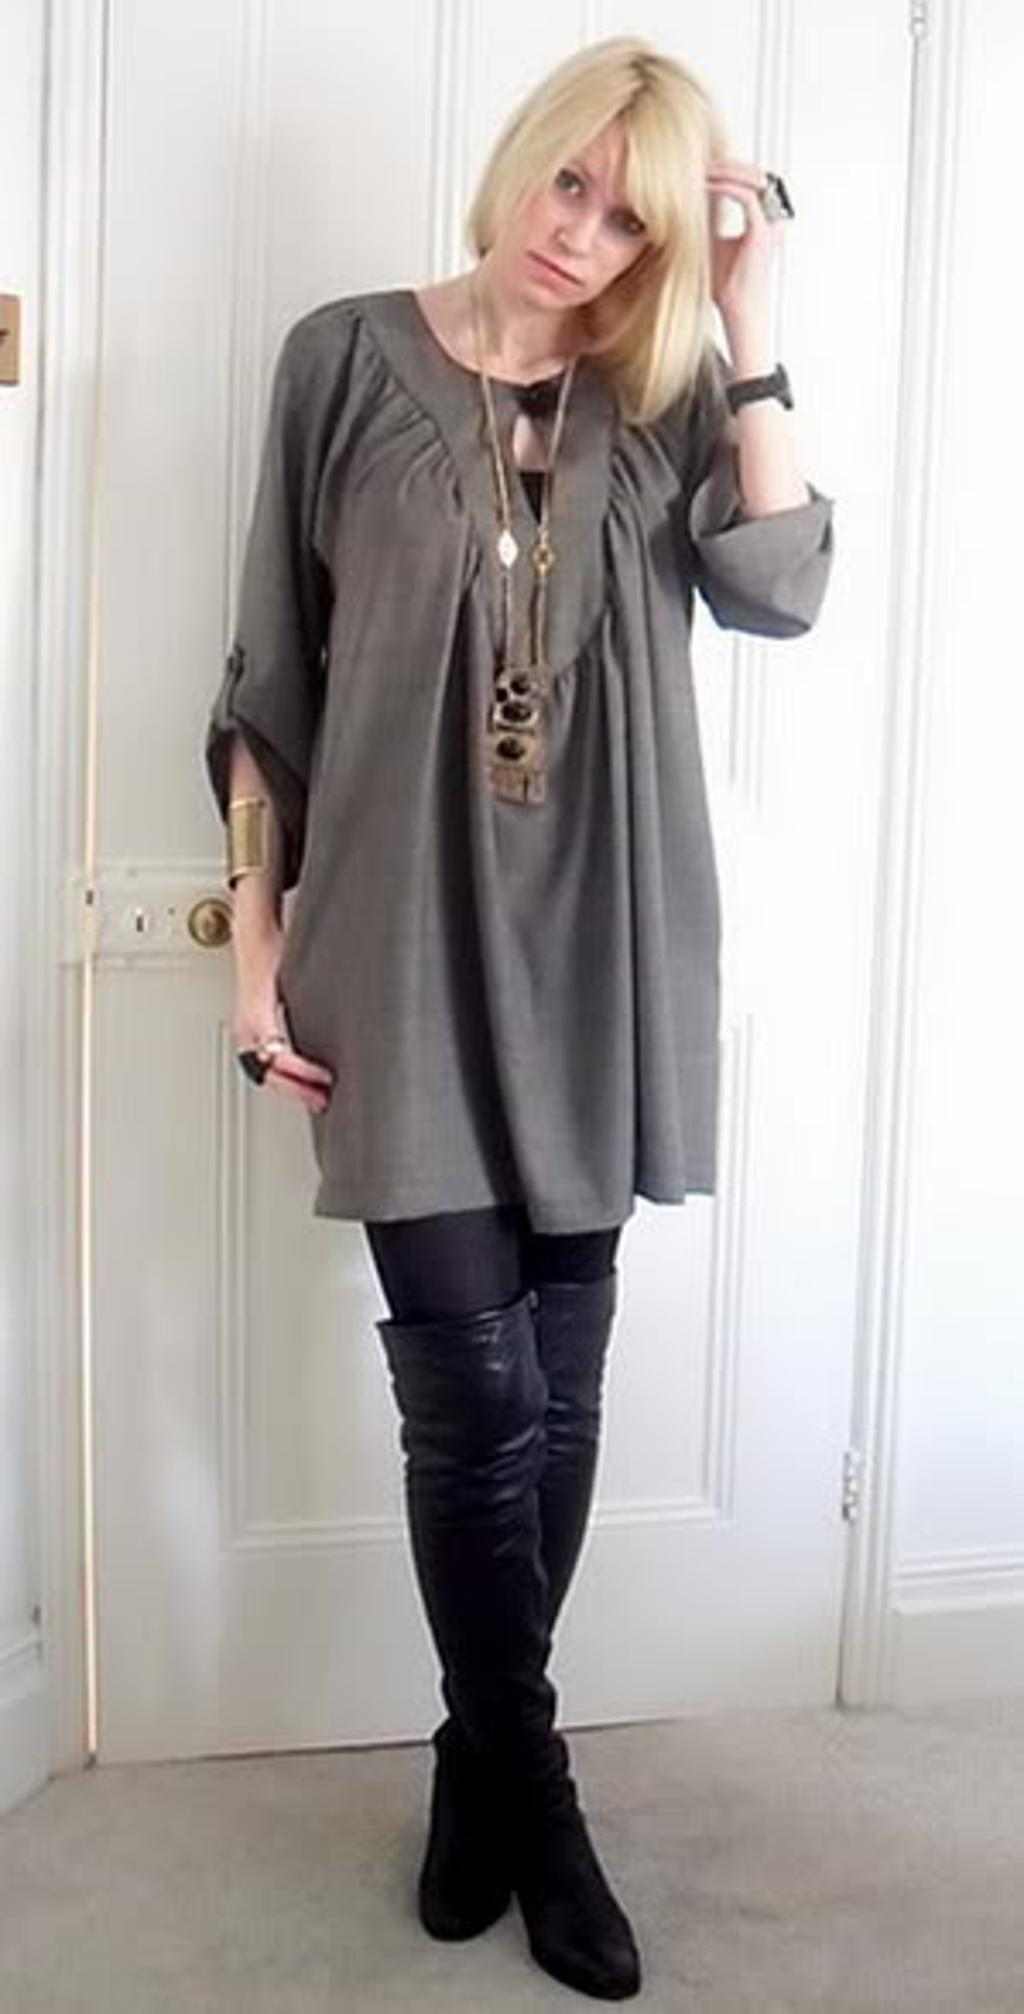face: (492, 106, 665, 307)
